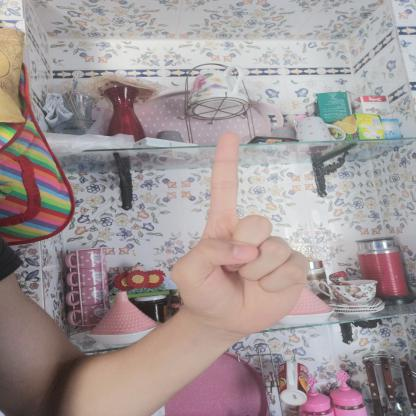BAA: (161, 122, 318, 344)
